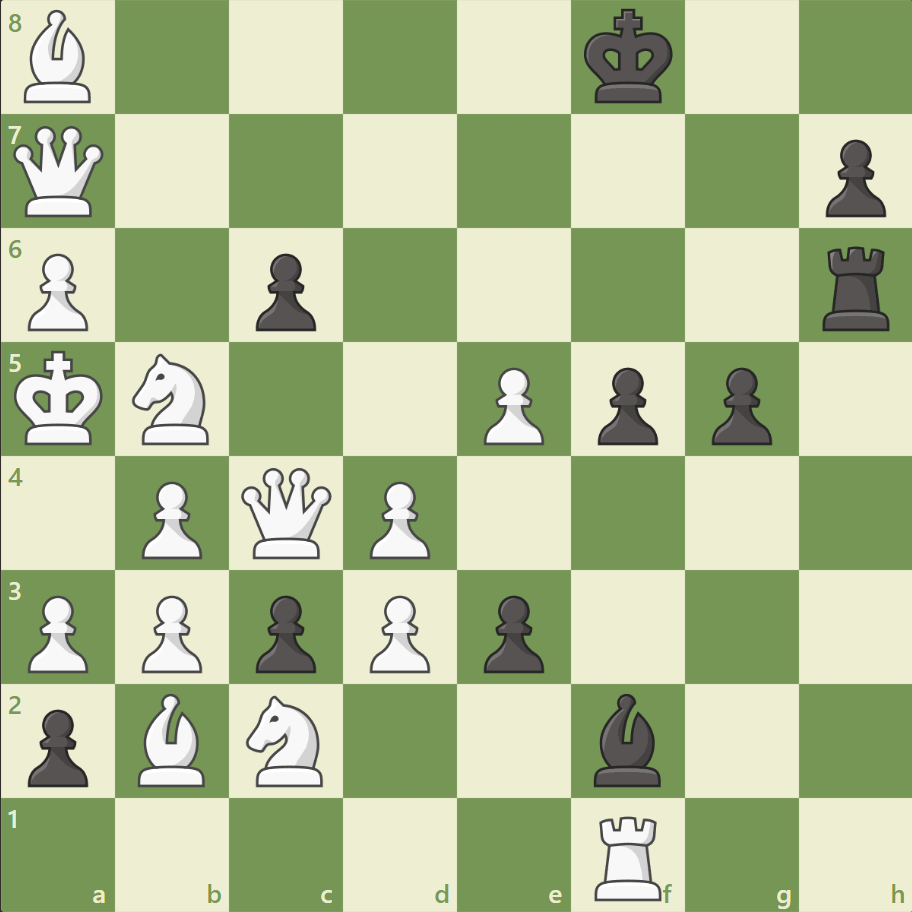B: (17, 6, 101, 109), (131, 687, 215, 790)
K: (11, 344, 111, 452)
N: (124, 348, 222, 450), (238, 688, 335, 791)
P: (20, 246, 95, 337), (474, 359, 549, 450), (133, 473, 208, 564), (20, 586, 95, 677), (133, 586, 208, 677), (361, 473, 435, 564), (361, 586, 435, 677)
Q: (10, 122, 109, 222), (237, 463, 336, 562)
R: (587, 806, 670, 904)
b: (585, 687, 669, 790)
k: (579, 4, 679, 112)
p: (247, 246, 322, 337), (701, 359, 776, 450), (247, 586, 322, 677), (474, 586, 549, 677), (20, 700, 95, 791), (815, 132, 889, 223), (588, 359, 662, 450)
r: (814, 239, 897, 336)
